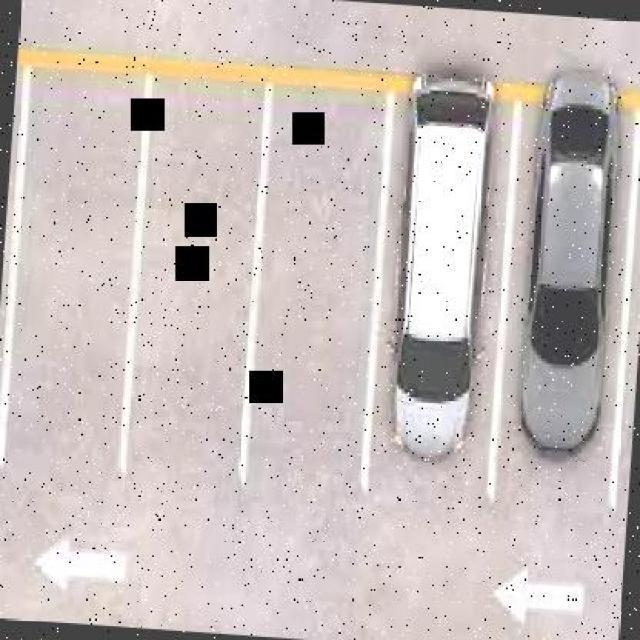car: (380, 49, 503, 466), (514, 66, 624, 469)
free: (245, 87, 388, 495), (5, 66, 144, 479), (126, 79, 266, 481)
